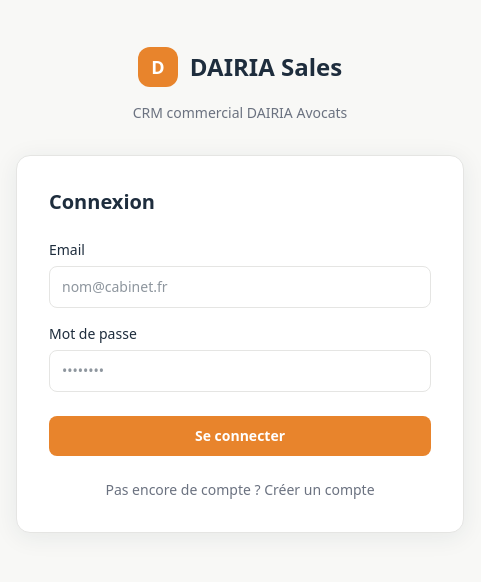
Test: LoginPage › shows error for wrong credentials
Type "test@example.com" into the field labelled "Email". click: (240, 287)
box: [49,266,431,308]
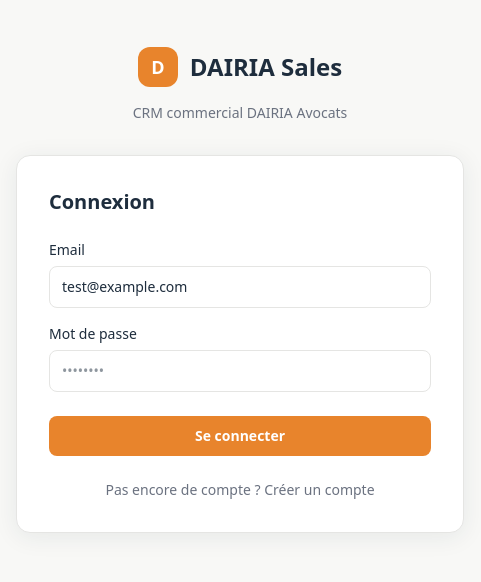
Type "wrongpassword" into the password field labelled "Mot de passe". click: (240, 371)
box: [49,350,431,392]
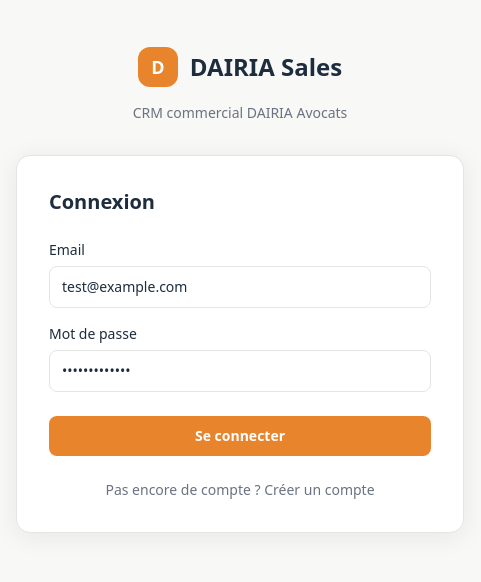
Click the button "Se connecter". click: (240, 436)
box: [49,416,431,456]
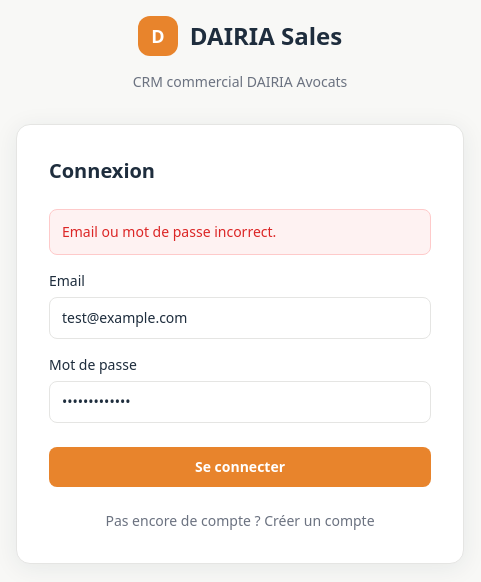
expect the text "Email ou mot de passe incorrect." is shown: met, box [49,209,431,255]
